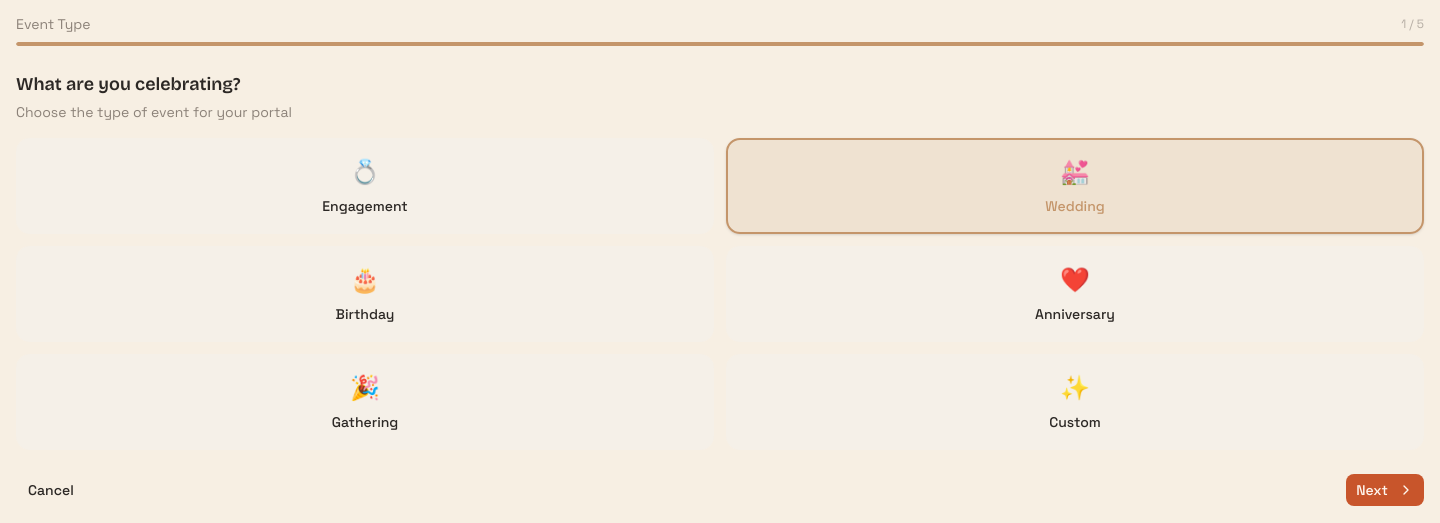
Test case: PortalCreationWizard › navigates to step 2 (Details) when Next clicked
Select event type (wedding is default selected)
Click the button "Next": [1385, 490] box [1346, 474, 1424, 506]
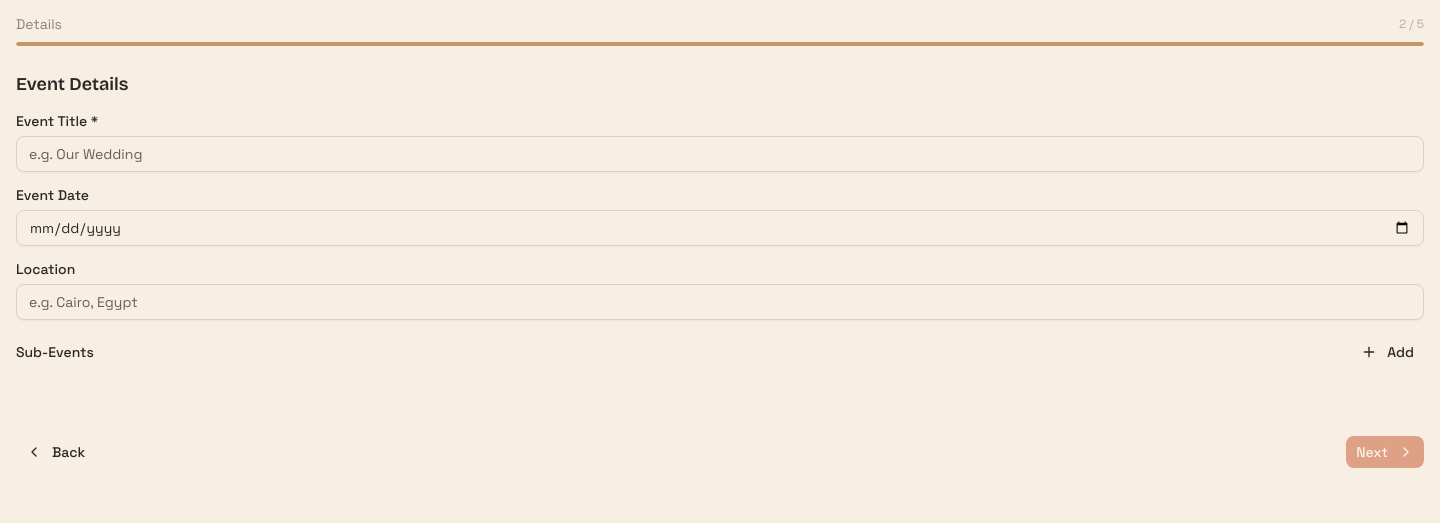
Now the heading "Event Details" is shown, box [16, 73, 128, 95]
Now the text "2 / 5" is shown, box [1399, 16, 1424, 32]
